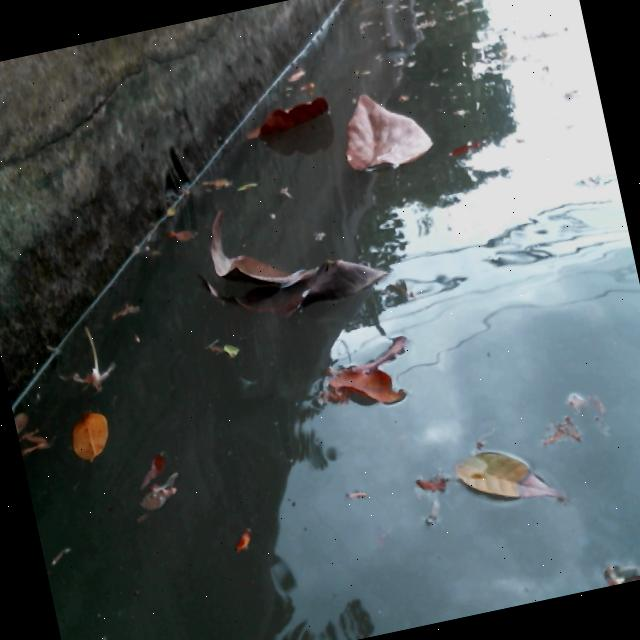Big-leaf: (190, 185, 398, 342), (332, 74, 440, 186), (313, 334, 422, 434), (241, 88, 331, 146)
Small-leaf: (461, 436, 559, 522), (65, 398, 126, 470), (131, 473, 194, 527), (212, 519, 262, 572), (97, 294, 152, 336), (134, 442, 177, 493), (408, 459, 448, 496), (63, 615, 119, 640), (224, 177, 264, 212), (167, 216, 209, 247), (195, 165, 234, 197), (283, 59, 311, 88)
